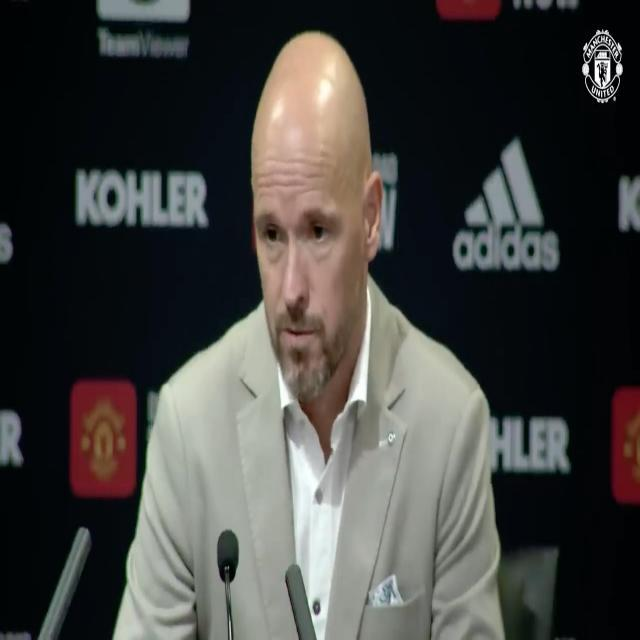Adidas: (452, 137, 560, 270)
Kohler: (76, 168, 208, 227)
TeamViewer: (96, 1, 190, 58)
